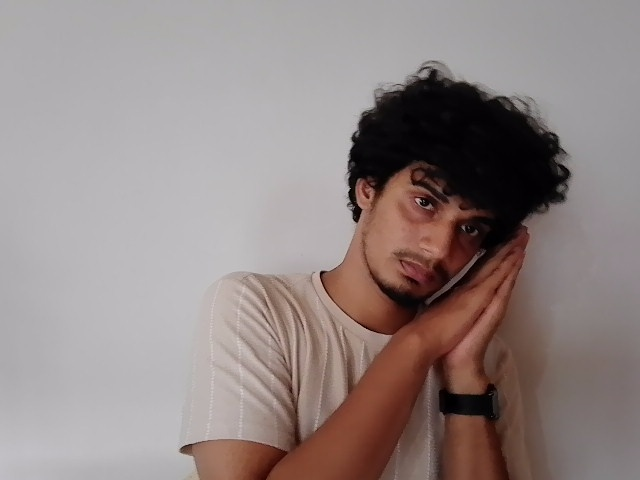sleep: (398, 219, 530, 345)
